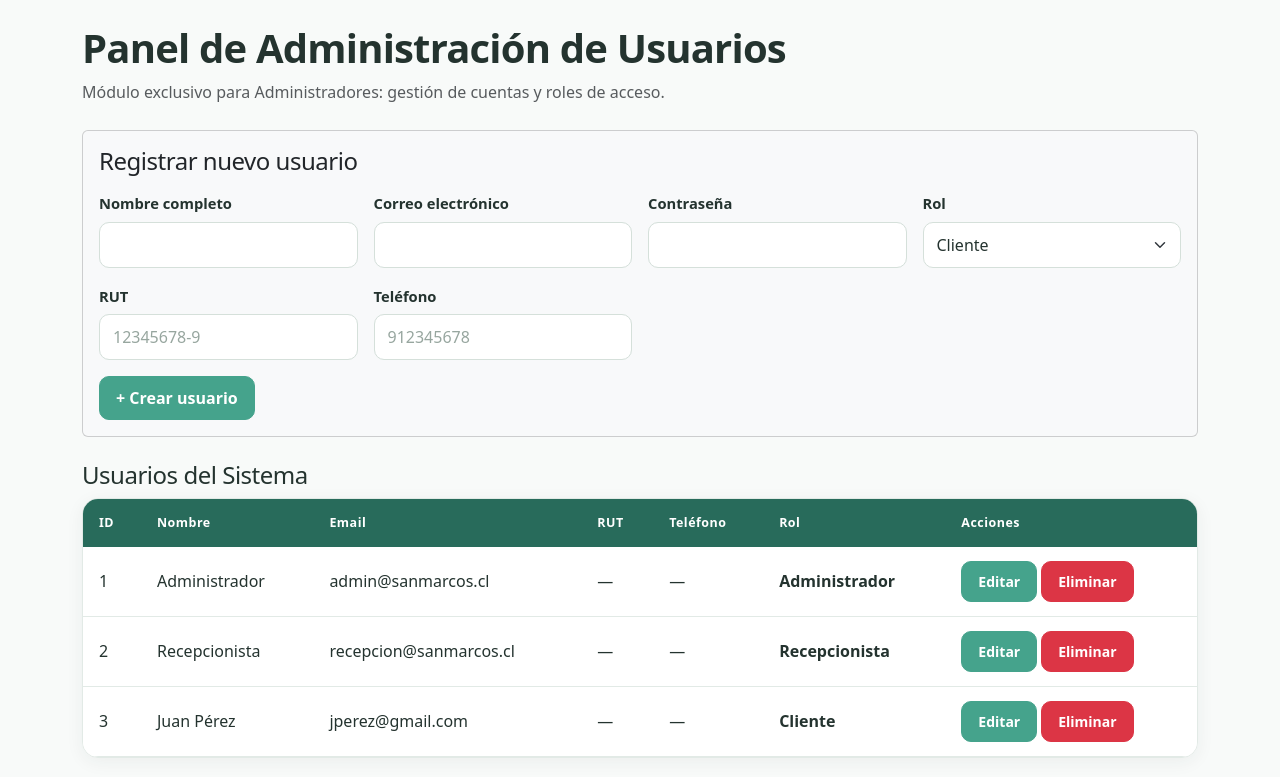
UsuariosPage › si el backend rechaza la creación, muestra su mensaje y no agrega la fila
The width and height of the screenshot is (1280, 777).
Expected: the text "Juan Pérez" is shown, [141,687,313,757]
Type "Laura Soto" into the field labelled "Nombre completo" at (228, 245), box [99,222,358,268]
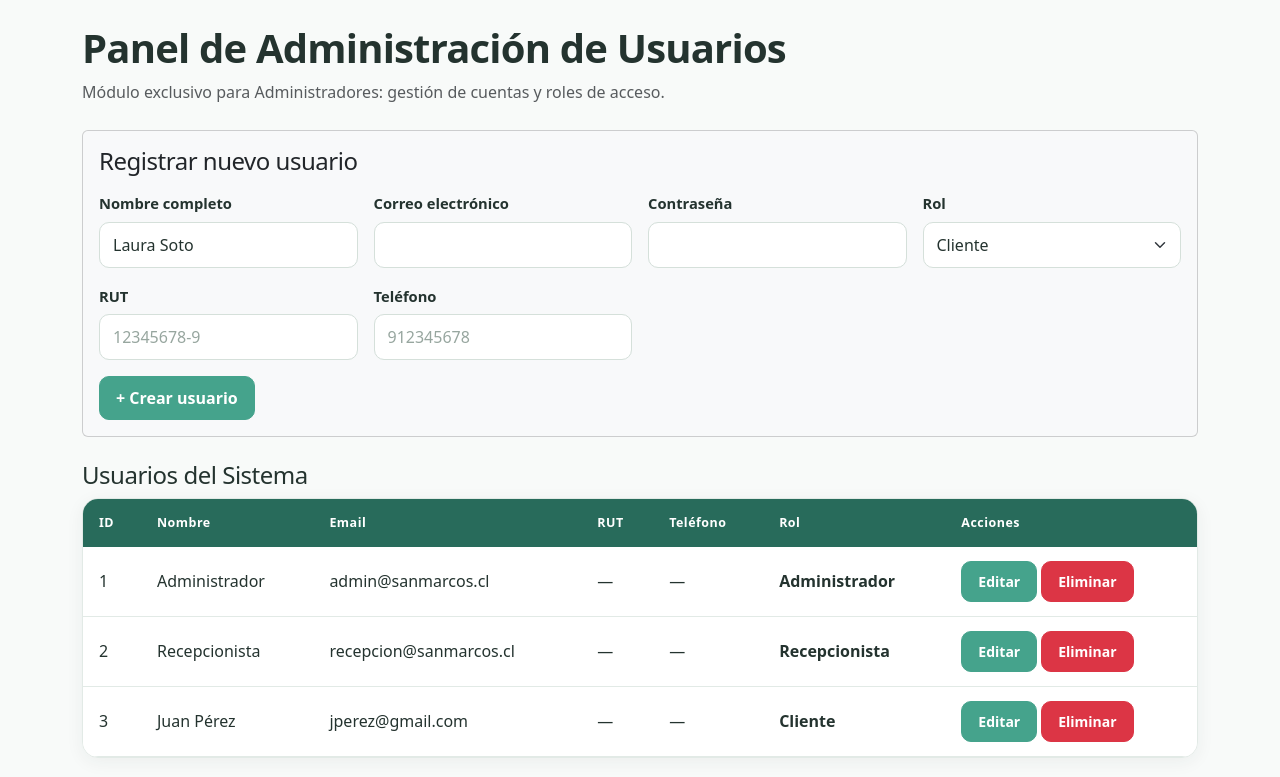
Type "laura@sanmarcos.cl" into the field labelled "Correo electrónico" at (503, 245), box [374,222,632,268]
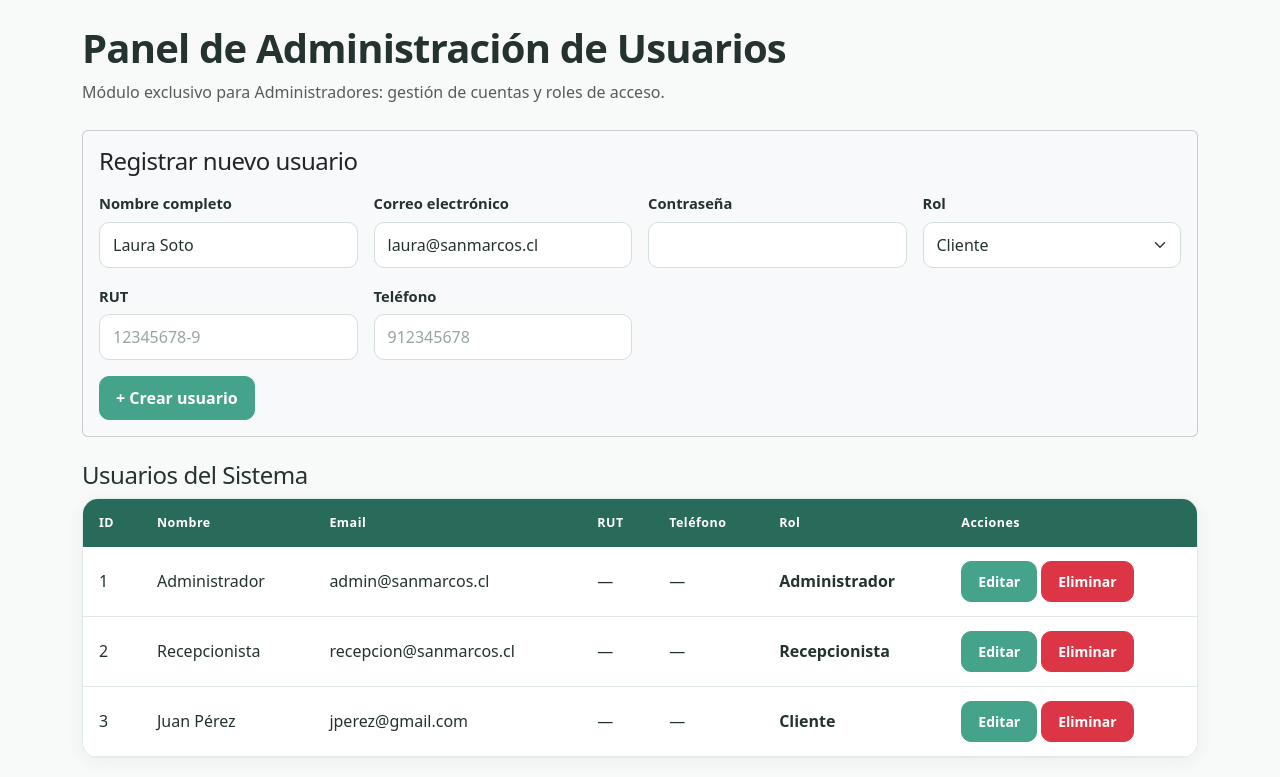
Type "1234" into the password field labelled "Contraseña" at (777, 245), box [648,222,906,268]
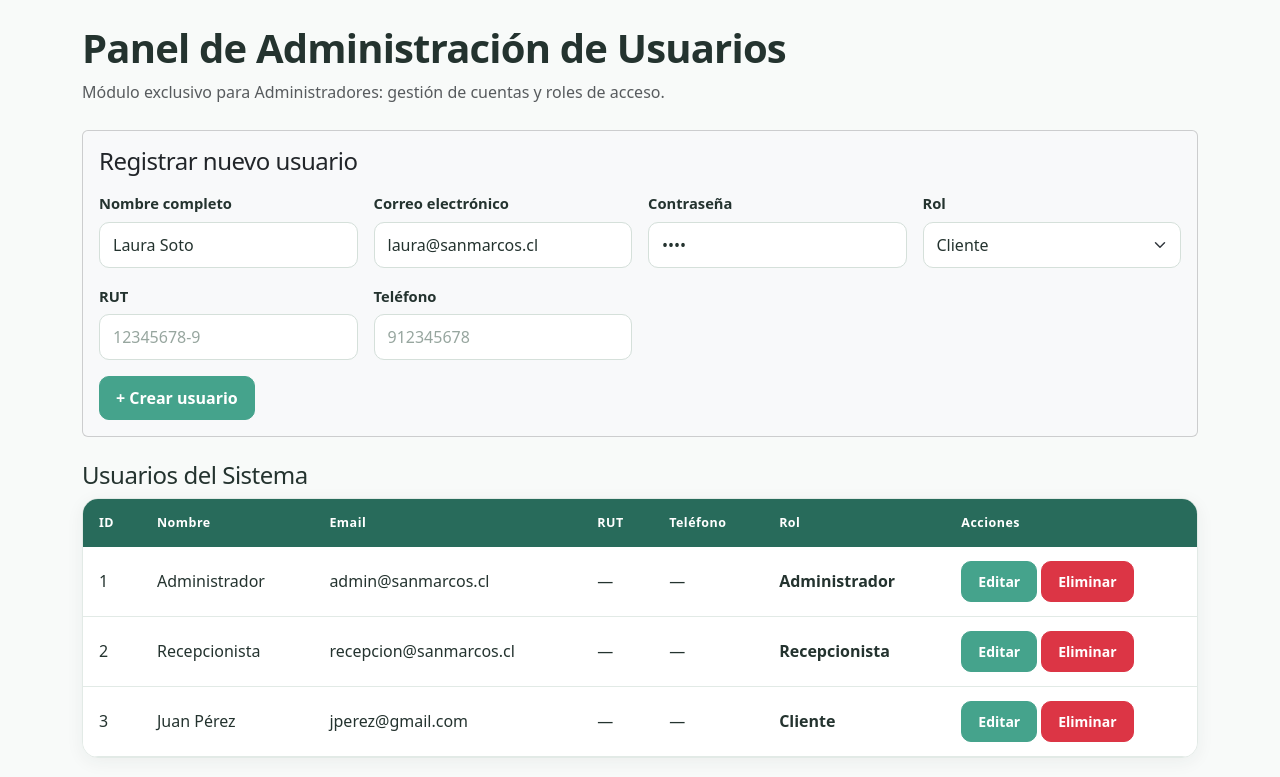
Click the button "+ Crear usuario" at (177, 398), box [99,376,255,420]
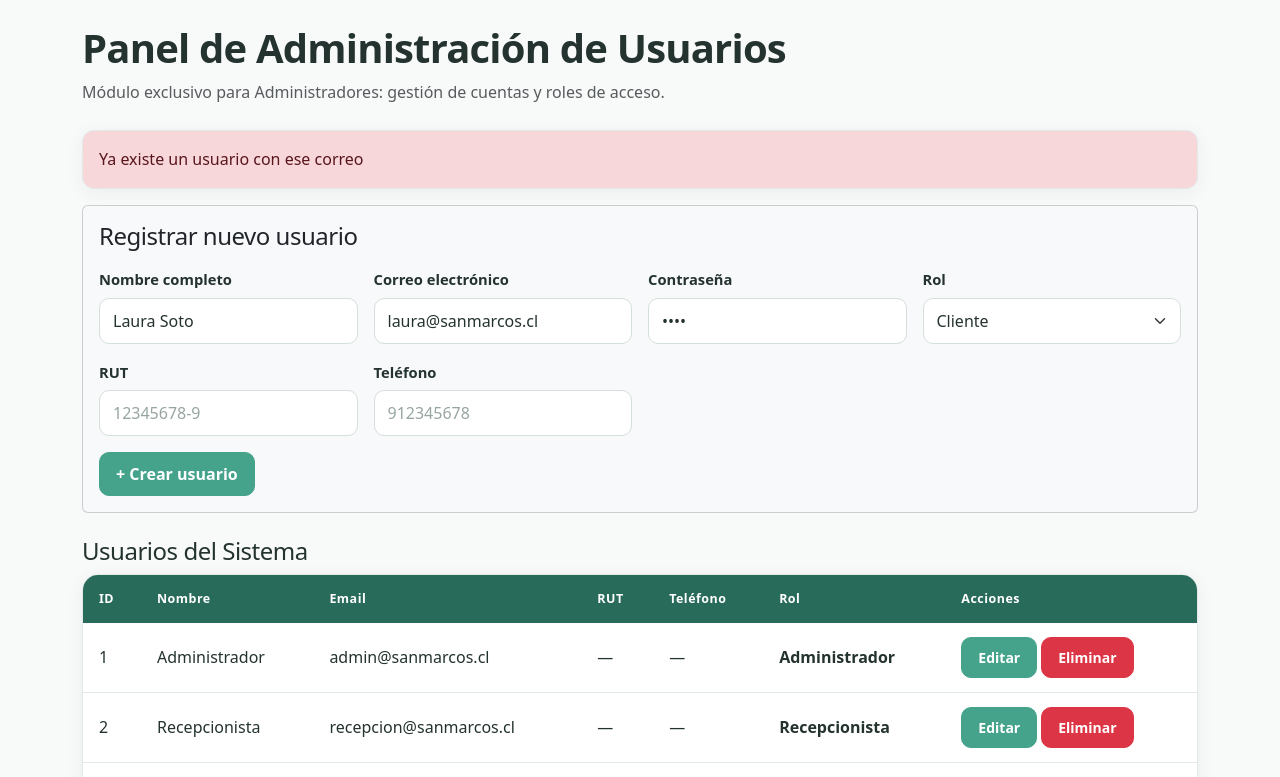
Expected: the message reads "Ya existe un usuario con ese correo", [99,148,364,170]
